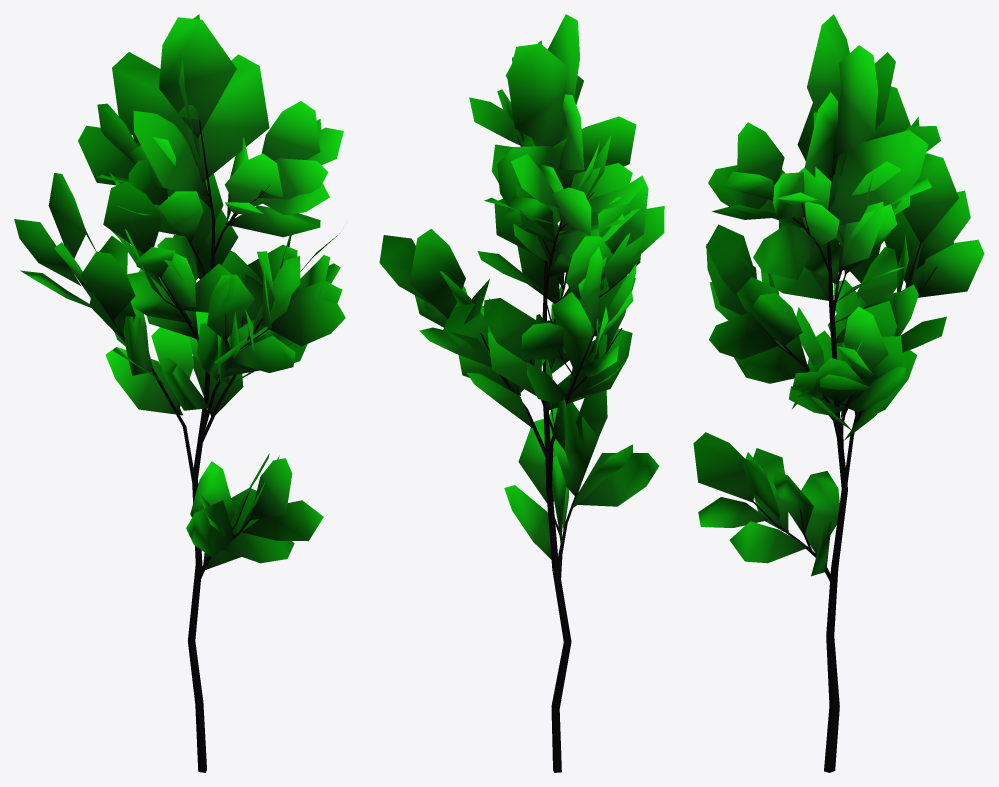
Rendered from Oak_Small_6_LOD_1.fbx.
3 renders of one model, left to right at view 1: azimuth 30°, elevation 25°; view 2: azimuth 150°, elevation 25°; view 3: azimuth 270°, elevation 25°, orthographic.
Visible parts, largest first — view 1: Oak_Small_6_LOD_1; view 2: Oak_Small_6_LOD_1; view 3: Oak_Small_6_LOD_1.
Part boxes in pixels (box(x1,y1,x2,y2)): Oak_Small_6_LOD_1: box(14, 14, 345, 772); Oak_Small_6_LOD_1: box(379, 14, 664, 772); Oak_Small_6_LOD_1: box(693, 14, 984, 772).
Bounding box in the file's own units: 5.41 × 13.87 × 4.9.
